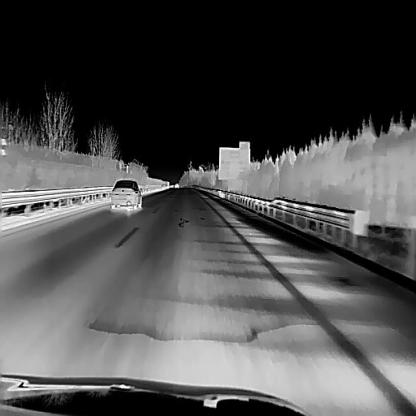car: (110, 178, 141, 209)
